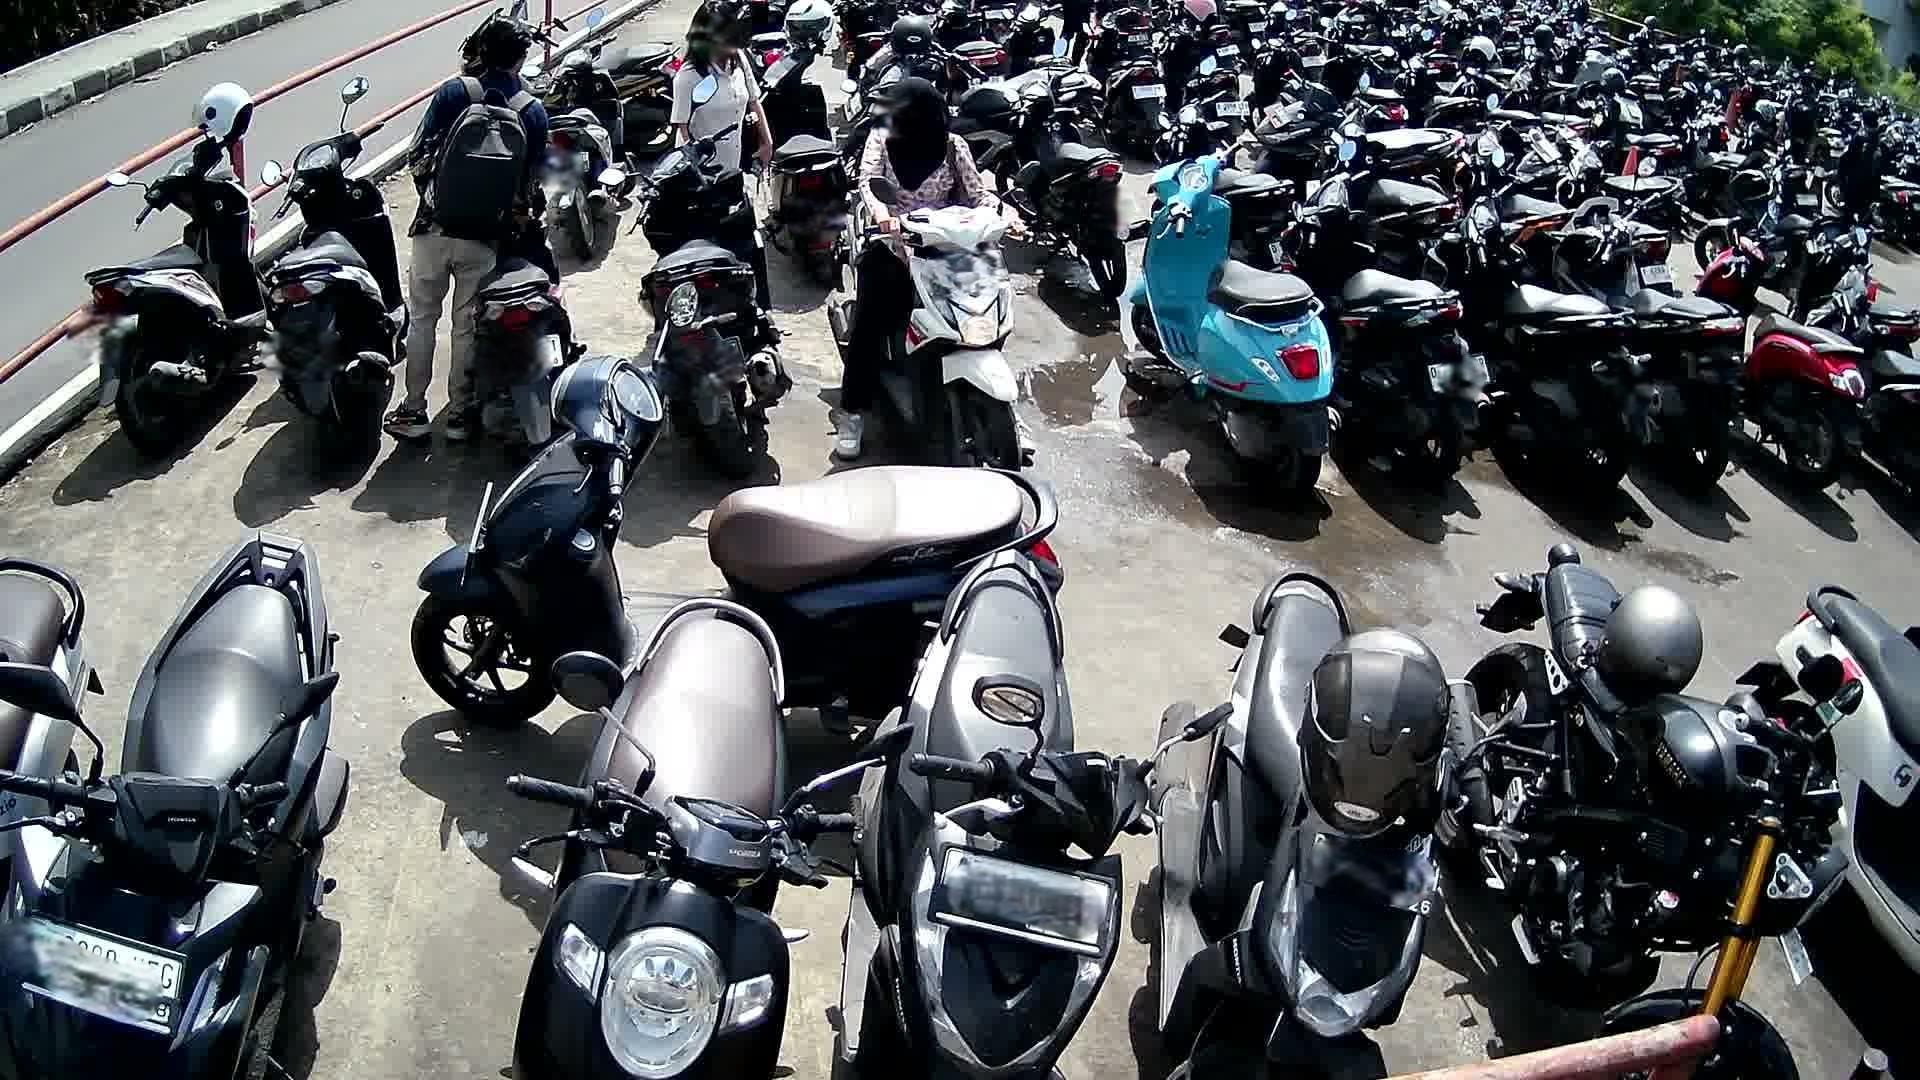motorcycle: (411, 284, 1067, 728), (1452, 543, 1850, 1080), (0, 529, 351, 1079), (827, 547, 1187, 1080), (504, 596, 860, 1080), (1154, 568, 1452, 1080), (1419, 144, 1662, 500), (600, 73, 796, 479), (1126, 140, 1342, 506), (1726, 582, 1920, 975), (1267, 164, 1497, 492), (1536, 157, 1754, 500), (84, 115, 268, 459), (829, 189, 1040, 472), (260, 75, 410, 467), (1692, 215, 1875, 497), (0, 556, 105, 964), (472, 202, 589, 475)
